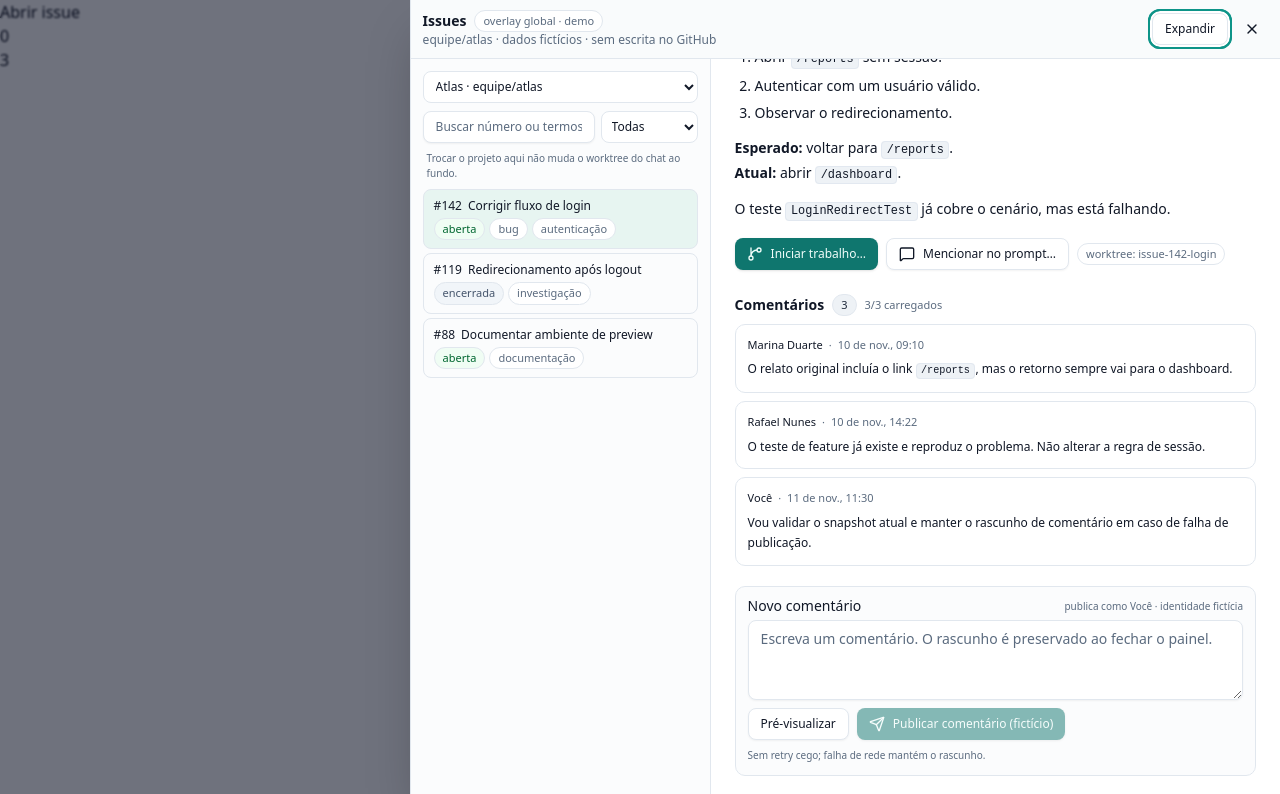
overlay de issues › publicação local confirma comentário e limpa o rascunho
This screenshot has width=1280, height=794.
Earlier steps of the test are not shown.
(page scrolled)
Step 1. Type "Comentário de teste" into the text box labelled "Novo comentário" → (995, 660), box x1=748 y1=620 x2=1243 y2=700
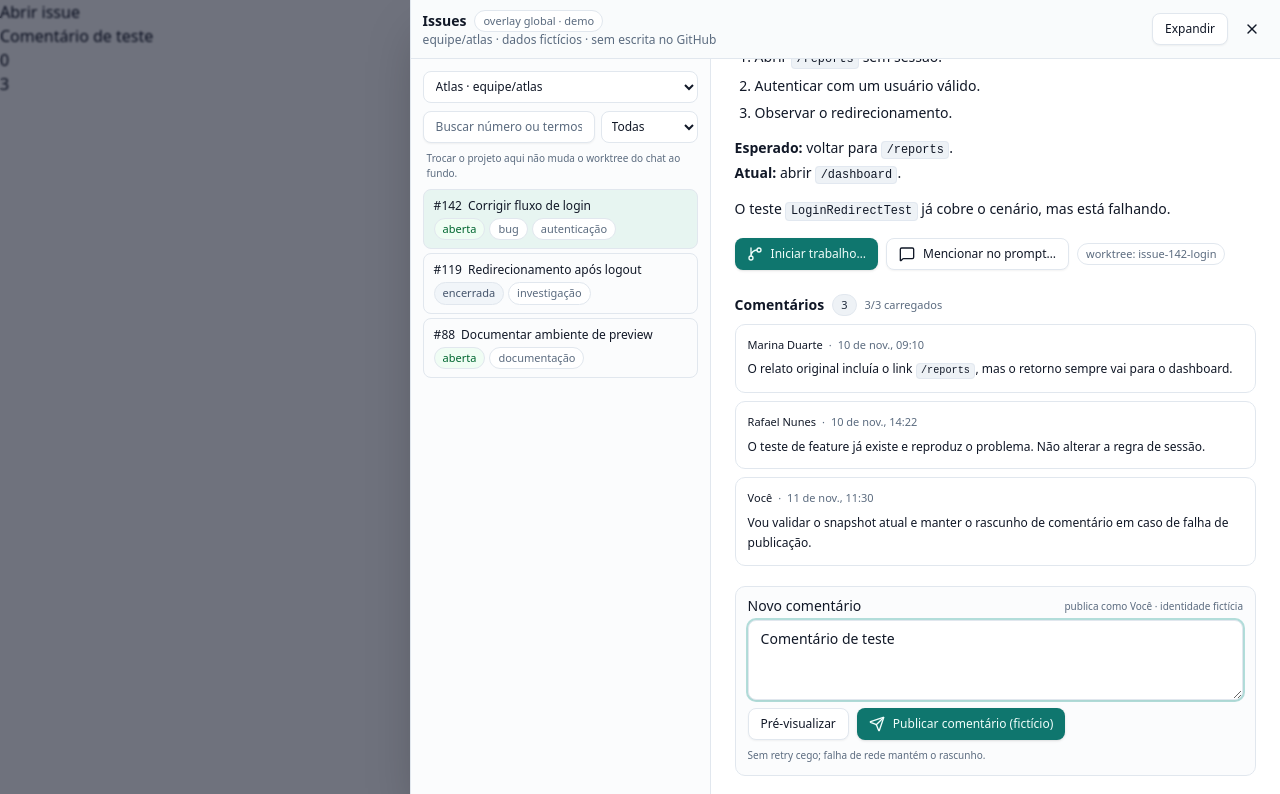
Step 2. Click the button "Publicar comentário (fictício)" → click(961, 724), box x1=857 y1=708 x2=1065 y2=740
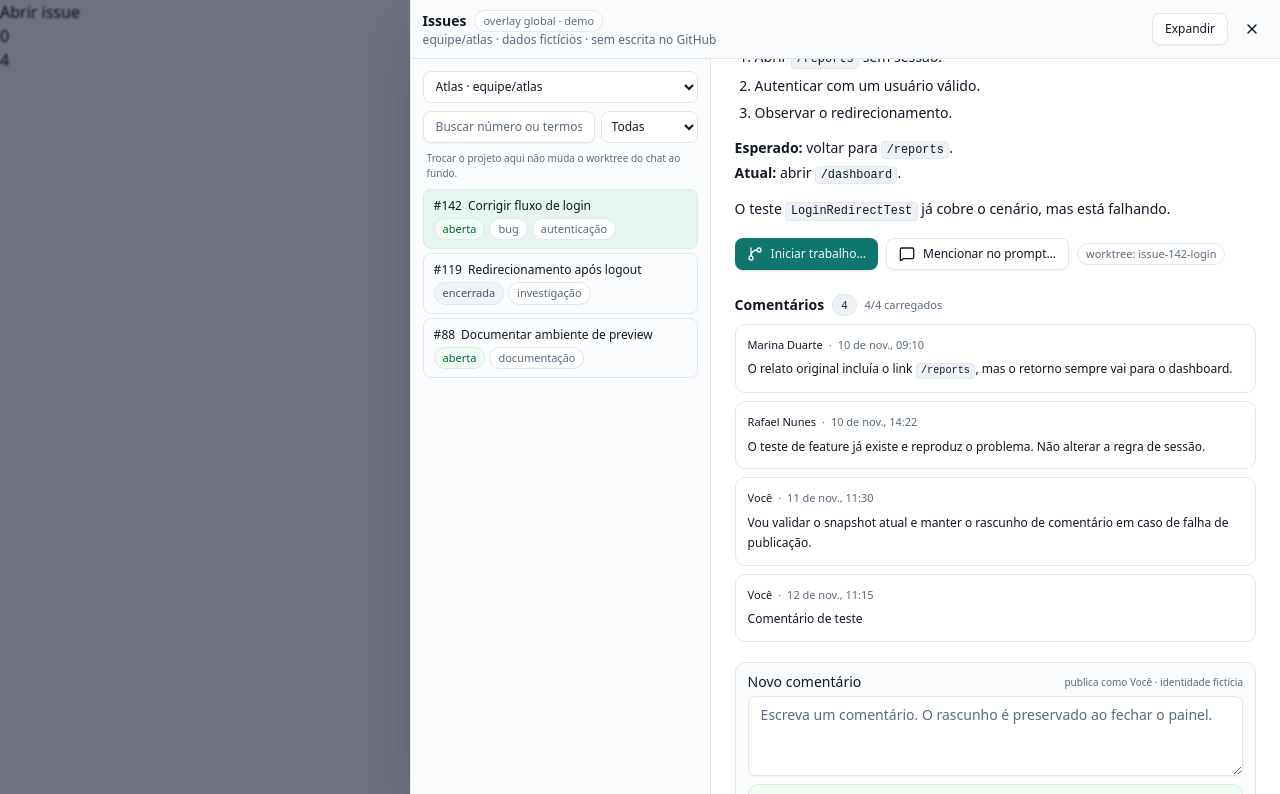
Expected: the text with test id "comments" reads "4", x1=0 y1=49 x2=9 y2=71
